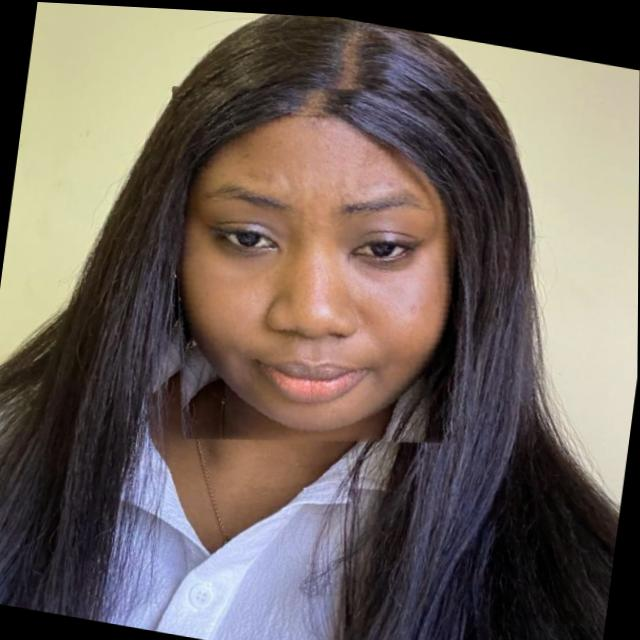sad: (142, 50, 507, 473)
